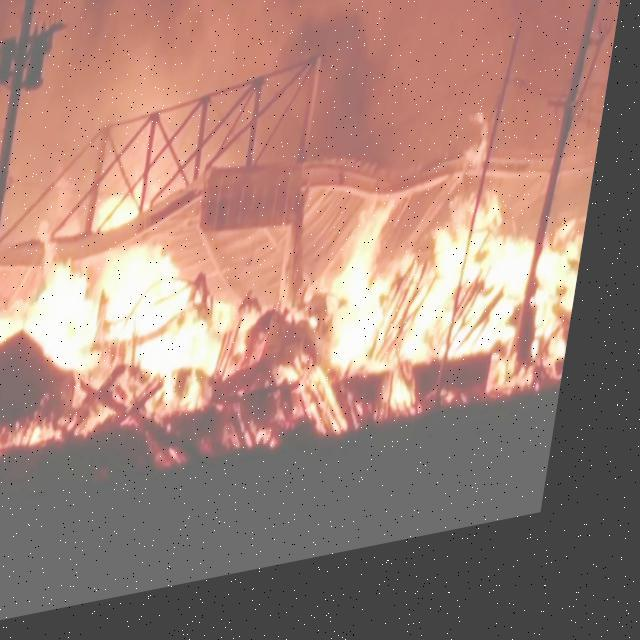Fire: (318, 188, 602, 443), (0, 230, 283, 422), (102, 192, 150, 238)
